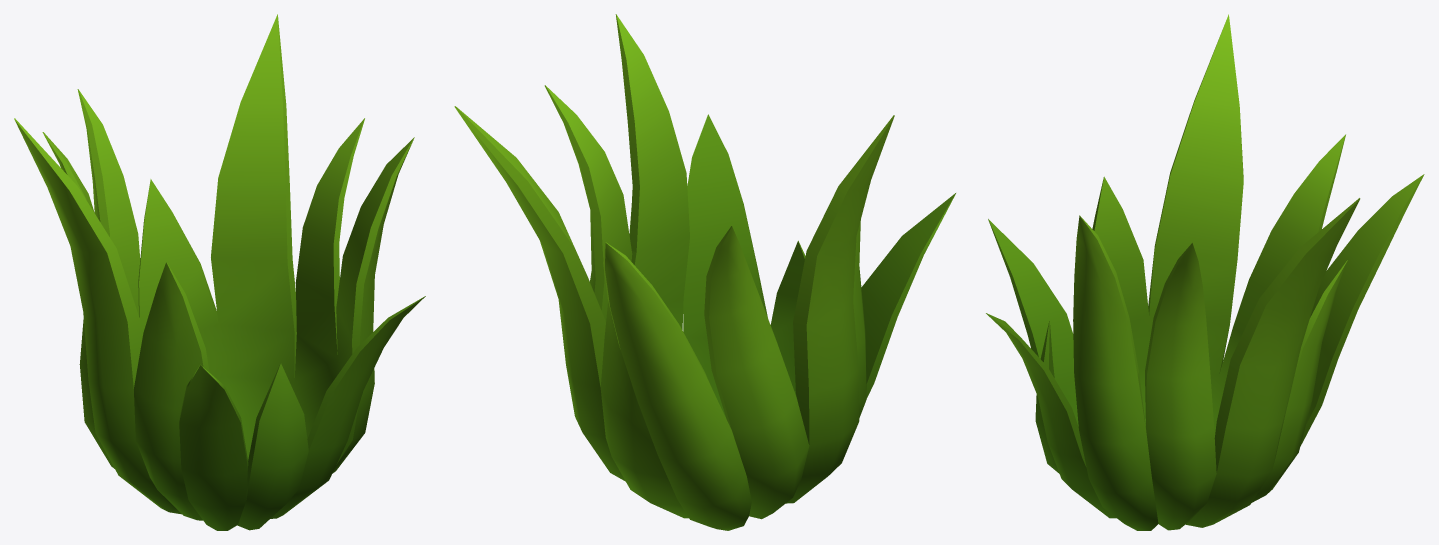
The model's file is Grass_01.fbx.
3 views of the same model, side by side, from view 1: azimuth 30°, elevation 25°; view 2: azimuth 150°, elevation 25°; view 3: azimuth 270°, elevation 25° (orthographic). The views are drawn at different scales.
Parts seen in each view (by area): view 1: Grass_01; view 2: Grass_01; view 3: Grass_01.
Boxes of the visible parts, x1,y1,x2,y2 form: Grass_01: [14, 14, 425, 530]; Grass_01: [454, 14, 955, 530]; Grass_01: [986, 14, 1424, 530].
Size of the model in its own units: 61.72 by 74.52 by 70.71.
